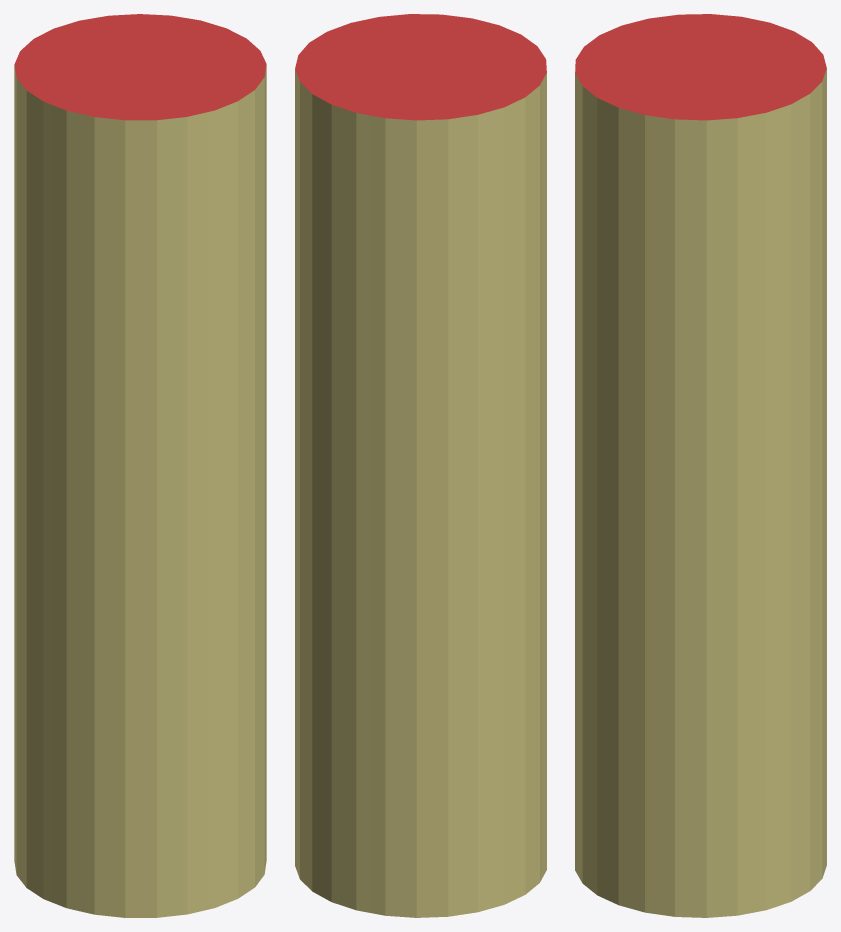
3 renders of one model, left to right at view 1: azimuth 30°, elevation 25°; view 2: azimuth 150°, elevation 25°; view 3: azimuth 270°, elevation 25°, orthographic.
Bounding box in the file's own units: 3.03 × 3.02 × 10.57.
